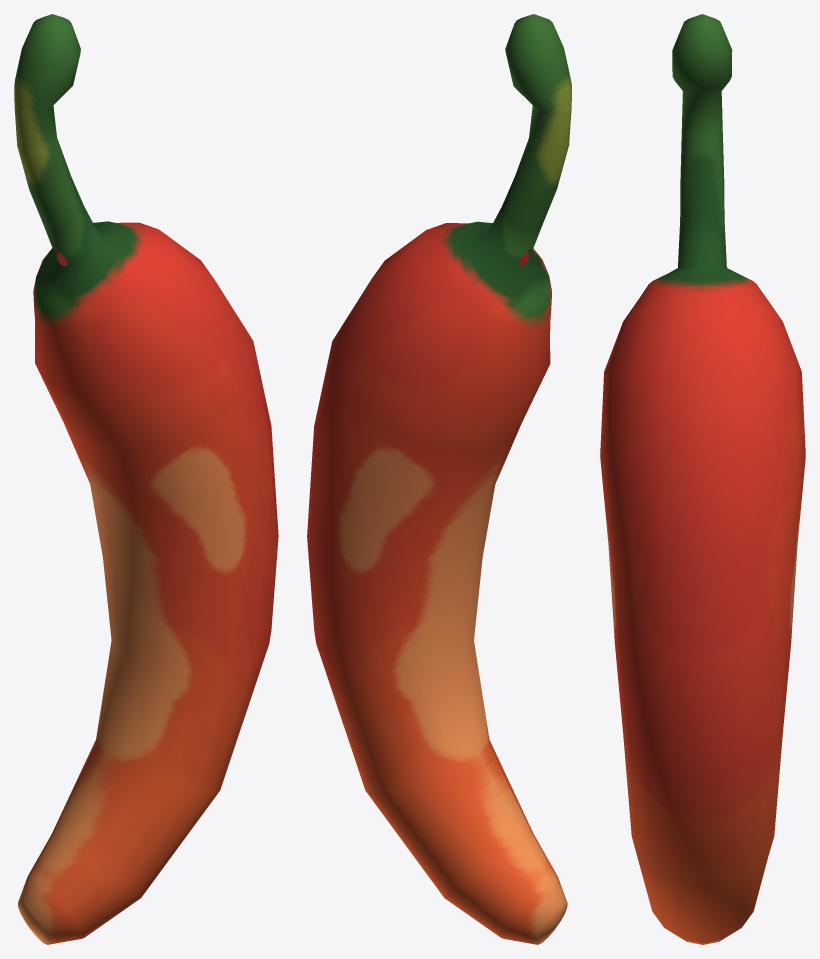
Rendered from Cabai.fbx.
3 views of the same model, side by side, from view 1: azimuth 30°, elevation 25°; view 2: azimuth 150°, elevation 25°; view 3: azimuth 270°, elevation 25° (orthographic).
Visible parts, largest first — view 1: Plane.023; view 2: Plane.023; view 3: Plane.023.
Part boxes in pixels (x1,y1,x2,y2): Plane.023: (14, 14, 278, 944); Plane.023: (307, 14, 571, 944); Plane.023: (600, 14, 805, 944).
Bounding box in the file's own units: 5.46 × 3.91 × 19.29.
1 material, 1 textured.
